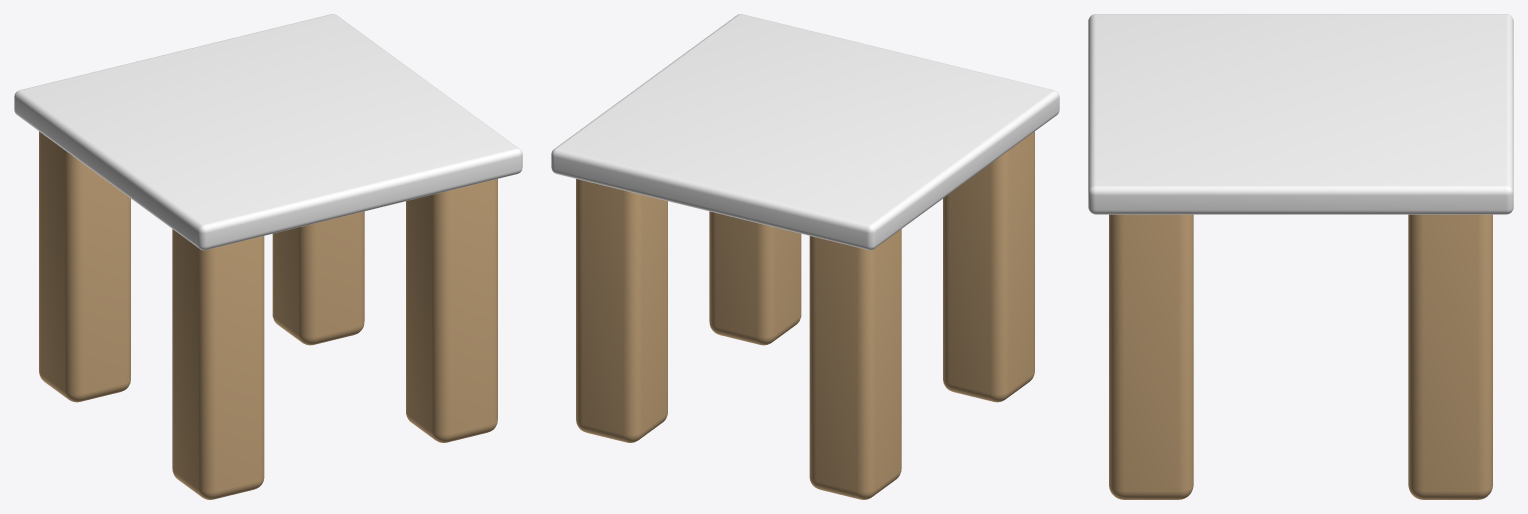
Rendered from simple_footstool.glb.
The picture shows the model from 3 angles, left to right: view 1: azimuth 30°, elevation 25°; view 2: azimuth 150°, elevation 25°; view 3: azimuth 270°, elevation 25°; orthographic projection. The views are drawn at different scales.
Visible parts, largest first — view 1: simple_footstool; view 2: simple_footstool; view 3: simple_footstool.
Part boxes in pixels (<box>): simple_footstool: <box>14,14,522,499</box>; simple_footstool: <box>551,14,1059,499</box>; simple_footstool: <box>1088,14,1513,499</box>.
Size of the model in its own units: 0.5147 by 0.4378 by 0.522.
